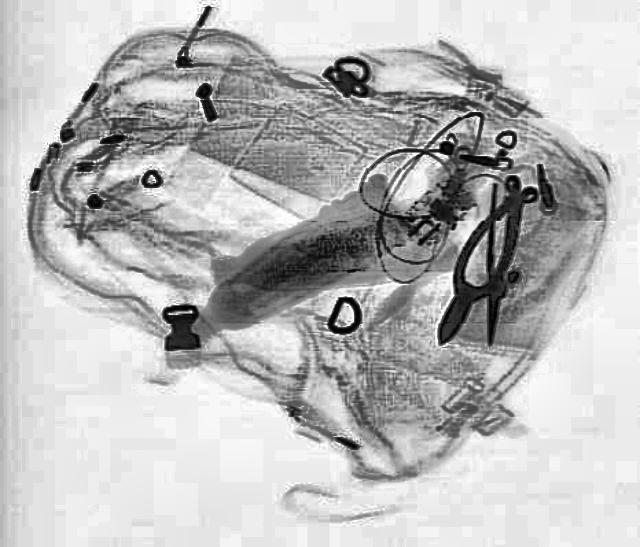Pliers: (414, 171, 548, 351)
